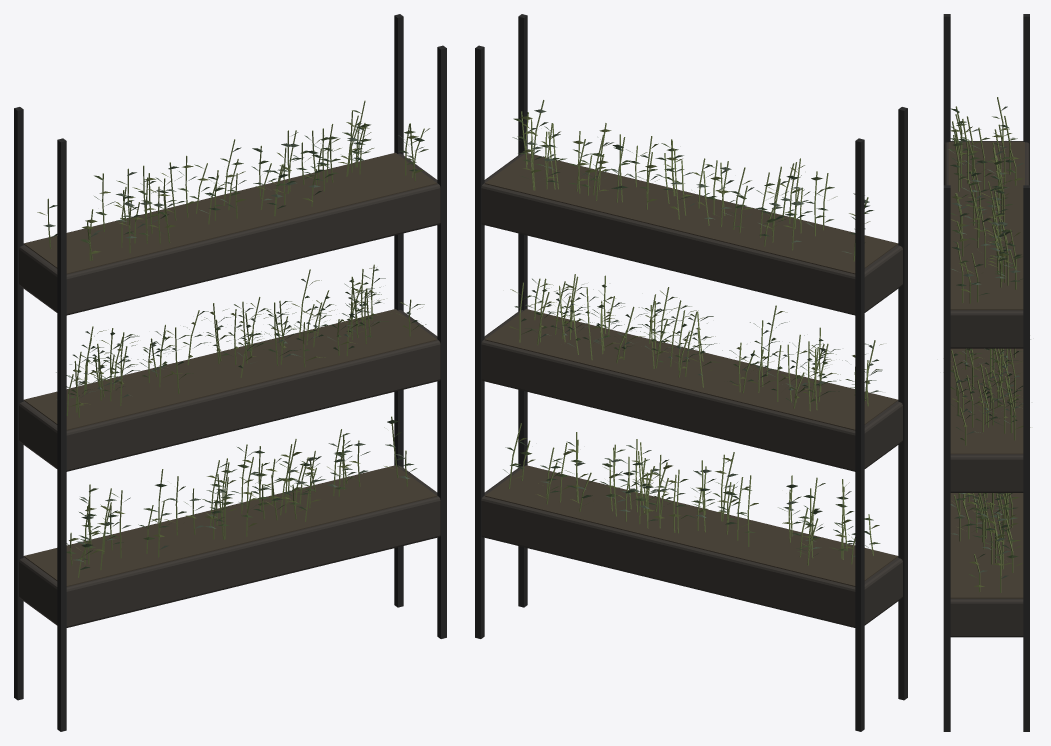
Rendered from herbs.glb.
The picture shows the model from 3 angles, left to right: view 1: azimuth 30°, elevation 25°; view 2: azimuth 150°, elevation 25°; view 3: azimuth 270°, elevation 25°; orthographic projection. The views are drawn at different scales.
Parts seen in each view (by area): view 1: MoboHerbs; view 2: MoboHerbs; view 3: MoboHerbs.
Part boxes in pixels (bbox=[...]): MoboHerbs: bbox=[14, 14, 446, 731]; MoboHerbs: bbox=[475, 14, 907, 731]; MoboHerbs: bbox=[943, 14, 1030, 731].
Bounding box in the file's own units: 2.28 × 3.32 × 0.5569.
